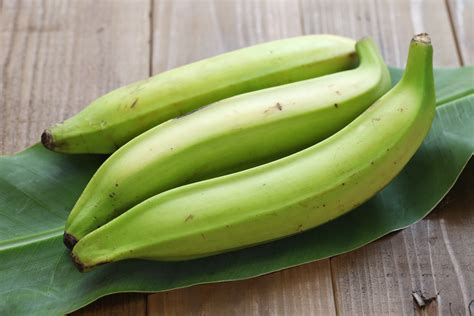banana: (72, 75, 435, 271), (62, 64, 390, 251), (40, 29, 367, 156)
